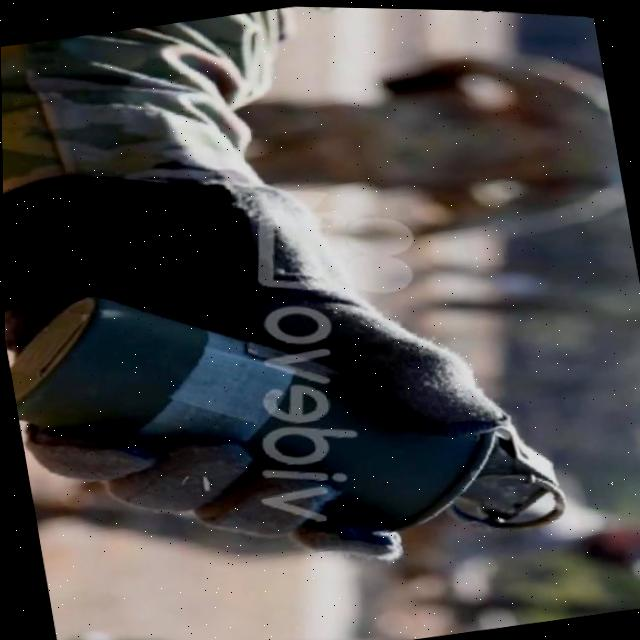grenade: (2, 205, 611, 638)
